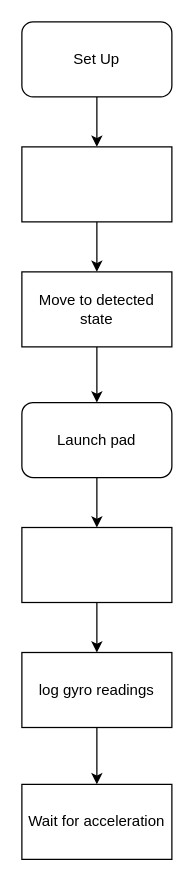
The diagram is 194 pixels wide and 881 high, and some of its shapes have lost their labels. The shapes that lost their labels are listed below. From the top down, each one's centre as x and y in pixels, then its label:
At [96,184]: "Check State".
At [96,564]: "Set state to launch".
